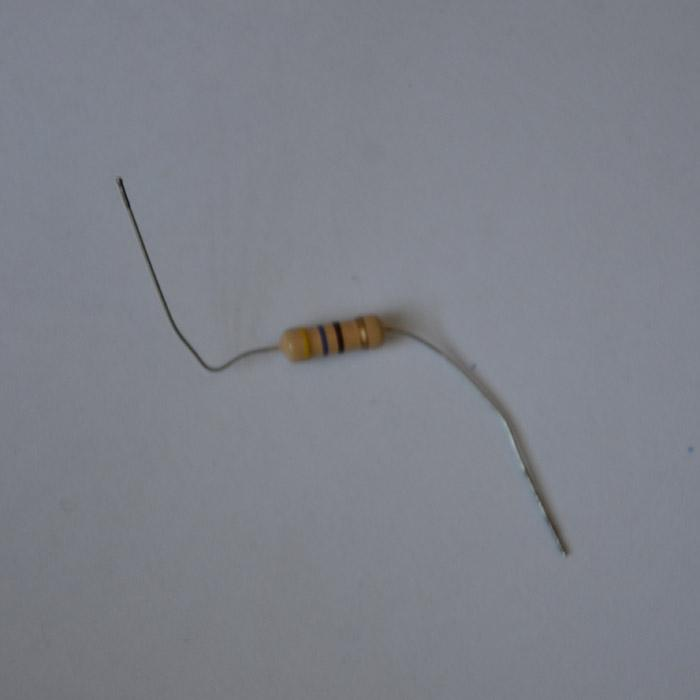resistor: (277, 313, 386, 361)
